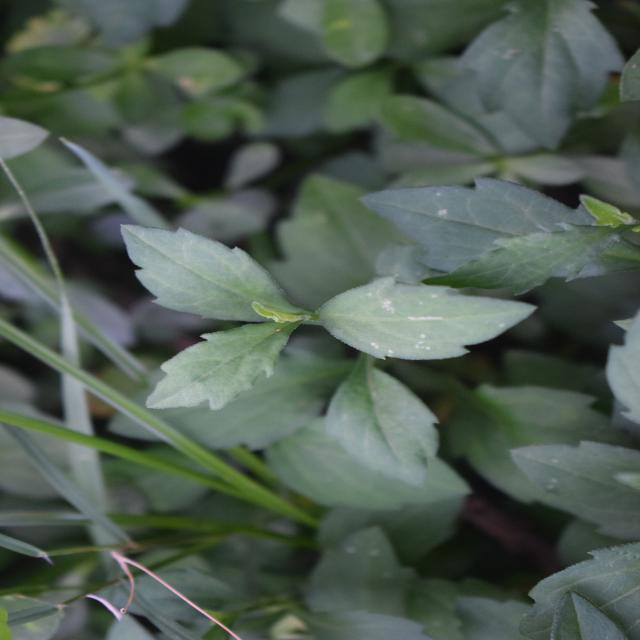Indian aster: (172, 111, 442, 533)
